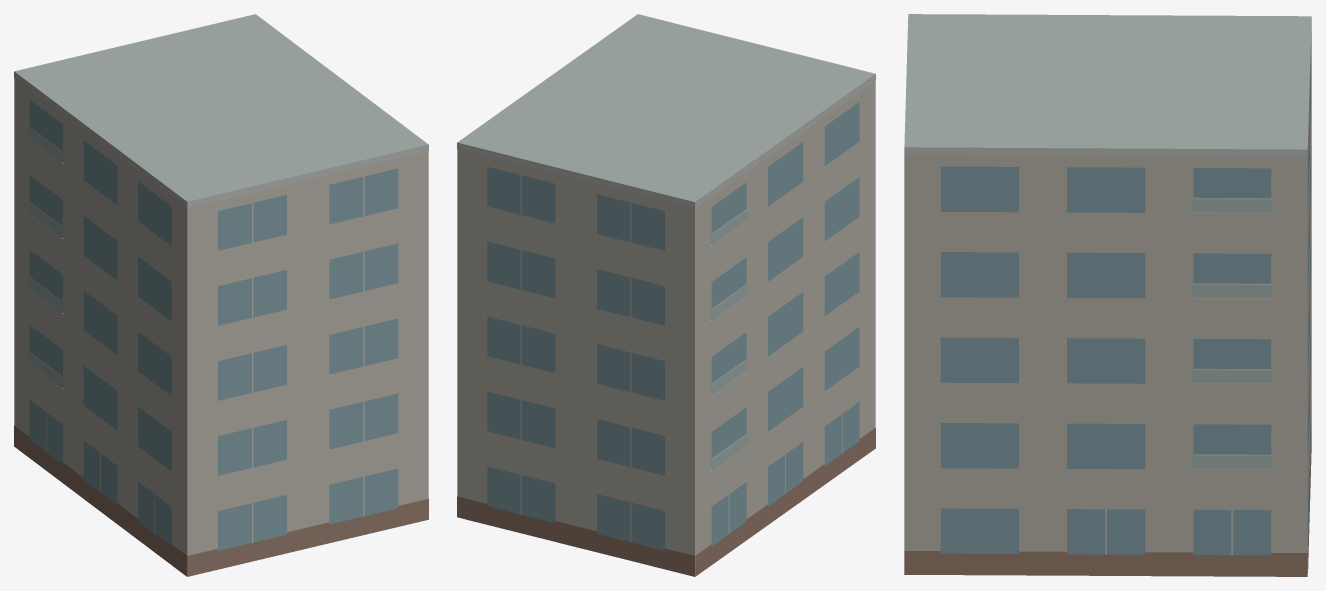
File: survey-upis-32631288.glb
The picture shows the model from 3 angles, left to right: view 1: azimuth 30°, elevation 25°; view 2: azimuth 150°, elevation 25°; view 3: azimuth 270°, elevation 25°; orthographic projection. The views are drawn at different scales.
Parts seen in each view (by area): view 1: survey-upis-32631288.tmp; view 2: survey-upis-32631288.tmp; view 3: survey-upis-32631288.tmp.
Boxes of the visible parts, x1,y1,x2,y2 form: survey-upis-32631288.tmp: (14, 14, 428, 576); survey-upis-32631288.tmp: (457, 14, 875, 576); survey-upis-32631288.tmp: (904, 14, 1311, 576).
Size of the model in its own units: 9.14 by 13.4 by 11.58.
